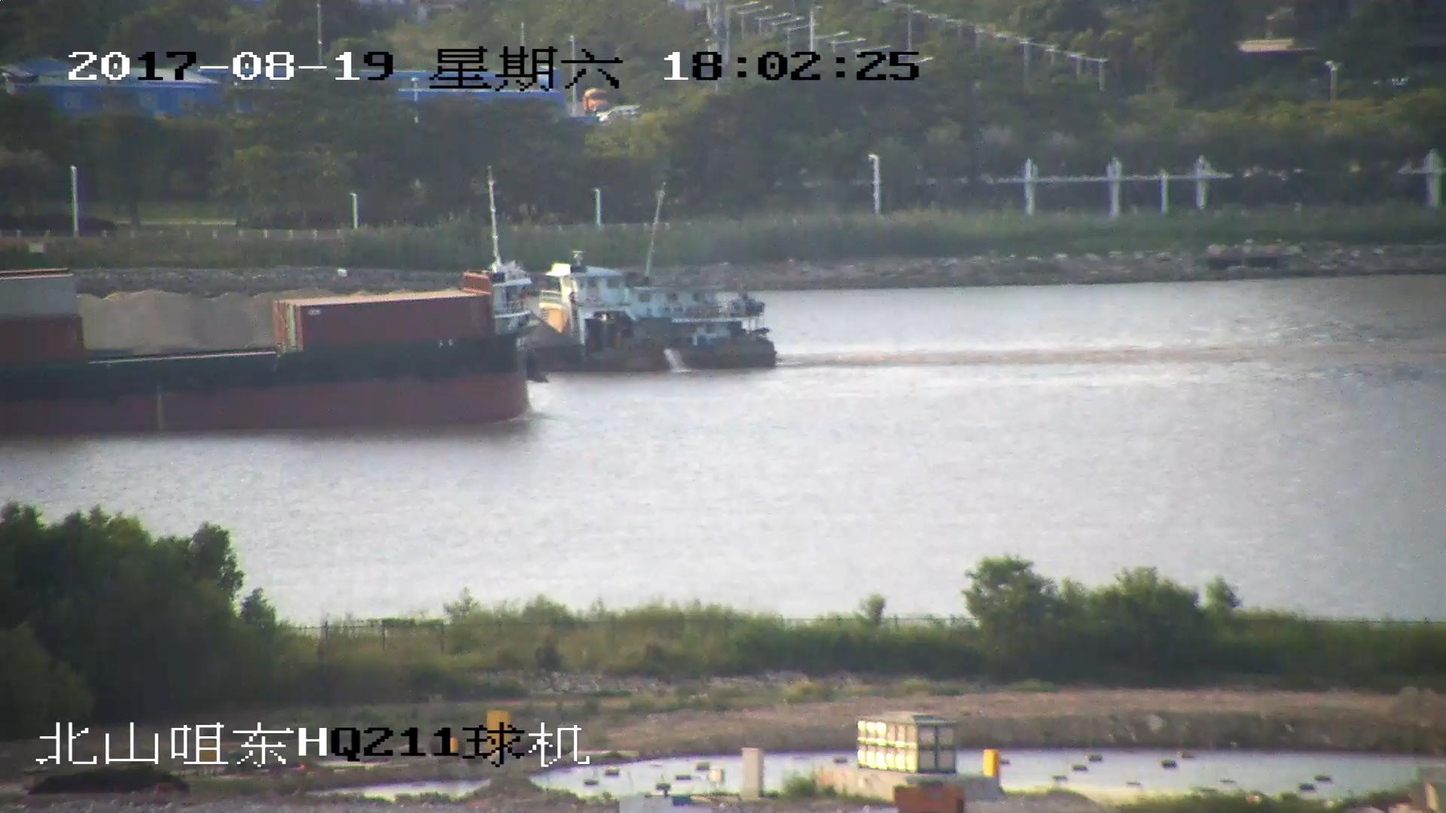container ship: (0, 263, 537, 423)
